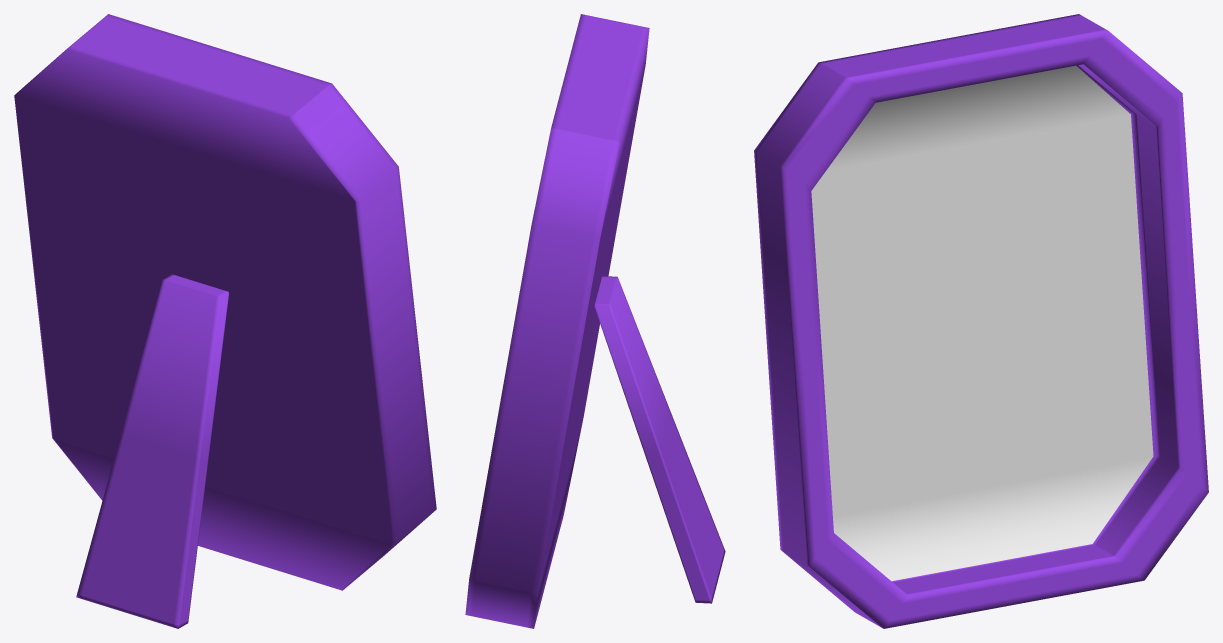
Rendered from Picture frame_04.fbx.
3 renders of one model, left to right at view 1: azimuth 30°, elevation 25°; view 2: azimuth 150°, elevation 25°; view 3: azimuth 270°, elevation 25°, orthographic. The views are drawn at different scales.
Parts seen in each view (by area): view 1: Picture frame.004; view 2: Picture frame.004; view 3: Picture frame.004.
Boxes of the visible parts, x1=… form: Picture frame.004: x1=14, y1=14, x2=436, y2=628; Picture frame.004: x1=465, y1=14, x2=725, y2=628; Picture frame.004: x1=754, y1=14, x2=1208, y2=628.
Bounding box in the file's own units: 19.33 × 33.72 × 26.41.
